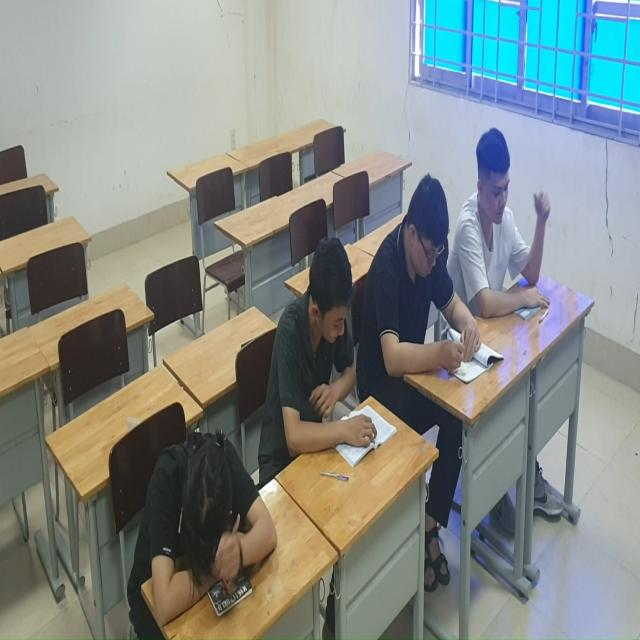read: (264, 224, 386, 467), (373, 178, 485, 425)
sleep: (124, 439, 279, 616)
